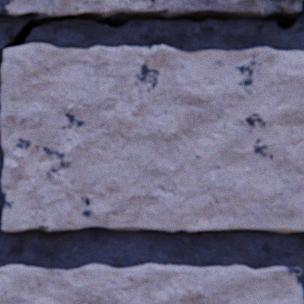brick: (0, 43, 303, 232), (0, 263, 302, 303), (0, 0, 300, 17)
crack: (0, 0, 303, 69), (0, 72, 1, 91)
